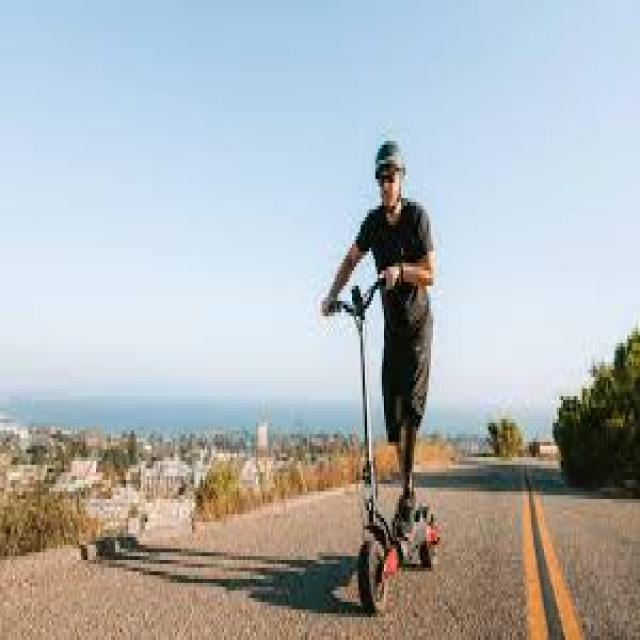helmet: (305, 123, 446, 625)
